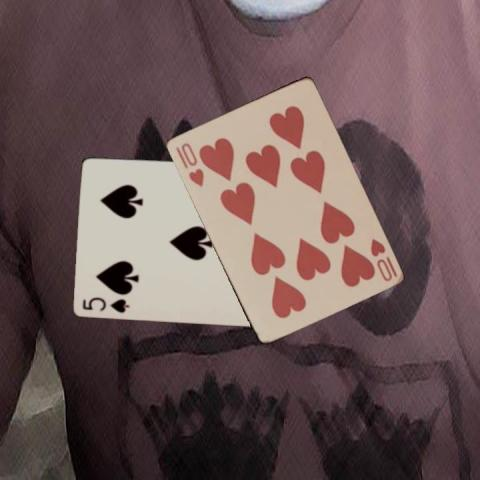10h: (172, 139, 205, 189), (366, 236, 398, 284)
5s: (80, 294, 131, 314)
